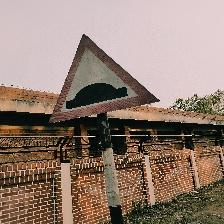Speed-breaker: (50, 31, 160, 122)
